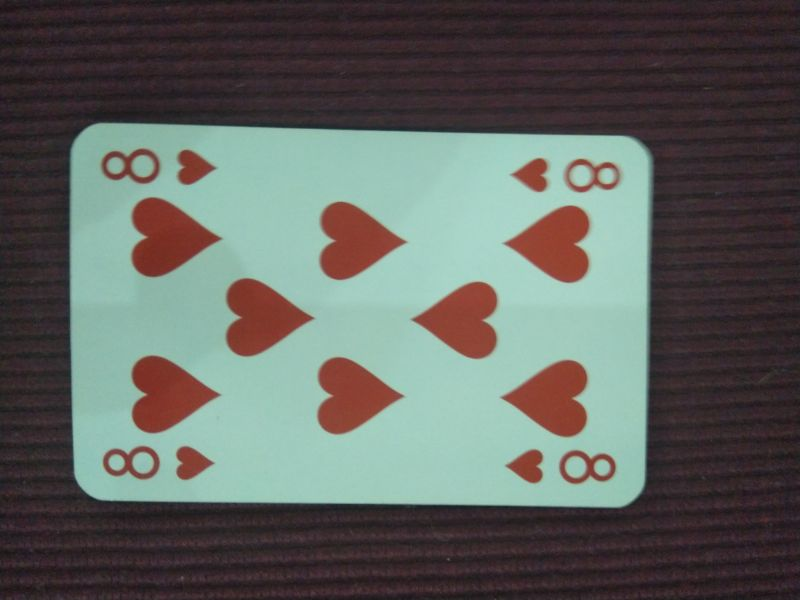8h: (96, 142, 220, 187), (504, 153, 625, 199), (499, 445, 620, 489), (97, 440, 218, 482)
